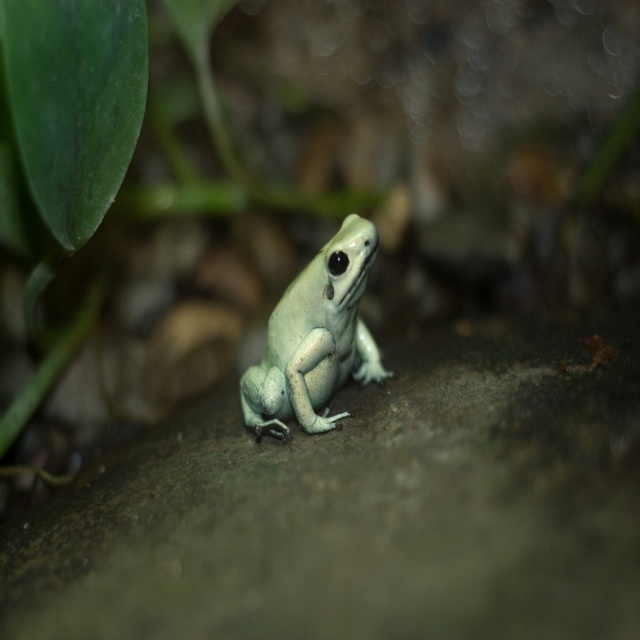Frog: (238, 210, 395, 434)
